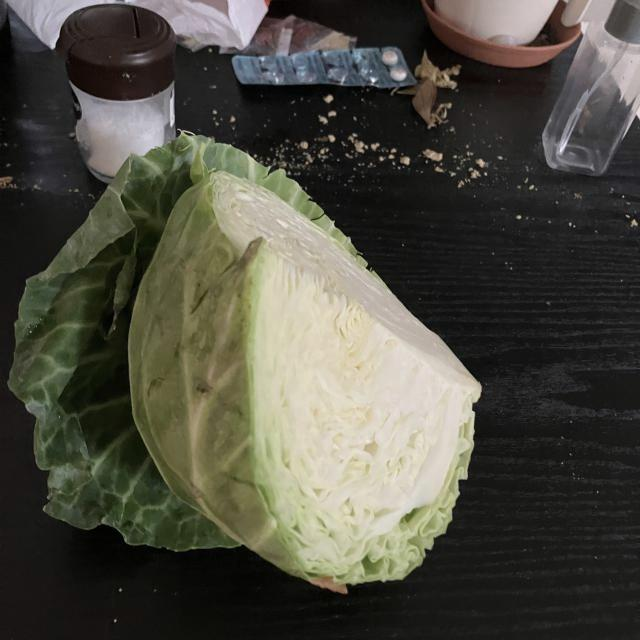cabbage: (8, 127, 484, 597)
